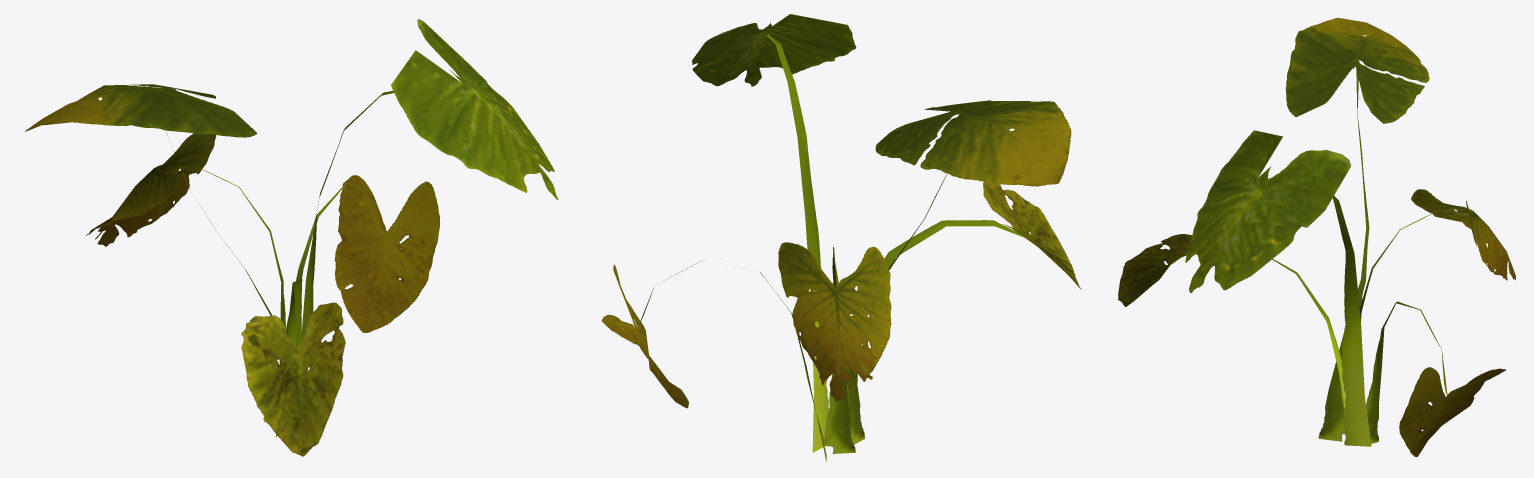
Rendered from Q_Plant_Taro_1.fbx.
The picture shows the model from 3 angles, left to right: view 1: azimuth 30°, elevation 25°; view 2: azimuth 150°, elevation 25°; view 3: azimuth 270°, elevation 25°; orthographic projection. The views are drawn at different scales.
Visible parts, largest first — view 1: _34aa_Var6_LOD3; view 2: _34aa_Var6_LOD3; view 3: _34aa_Var6_LOD3.
Part boxes in pixels (x1=…): _34aa_Var6_LOD3: x1=25, y1=19, x2=558, y2=456; _34aa_Var6_LOD3: x1=601, y1=14, x2=1081, y2=462; _34aa_Var6_LOD3: x1=1118, y1=17, x2=1515, y2=456.
Bounding box in the file's own units: 49.26 × 41.36 × 44.06.
Materials: 1 (1 with a texture image).
